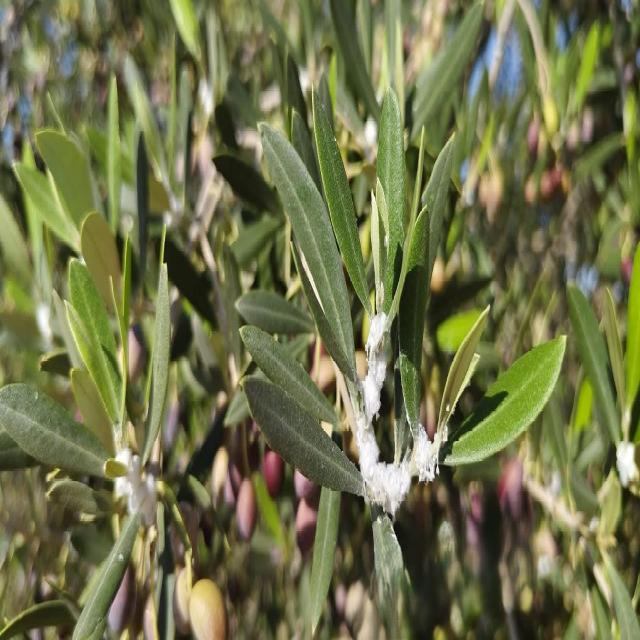Healthy: (440, 334, 566, 466), (243, 376, 362, 493), (312, 91, 372, 314), (240, 326, 338, 422)
Psyllid: (356, 313, 412, 516), (410, 418, 448, 483), (120, 457, 156, 524)
